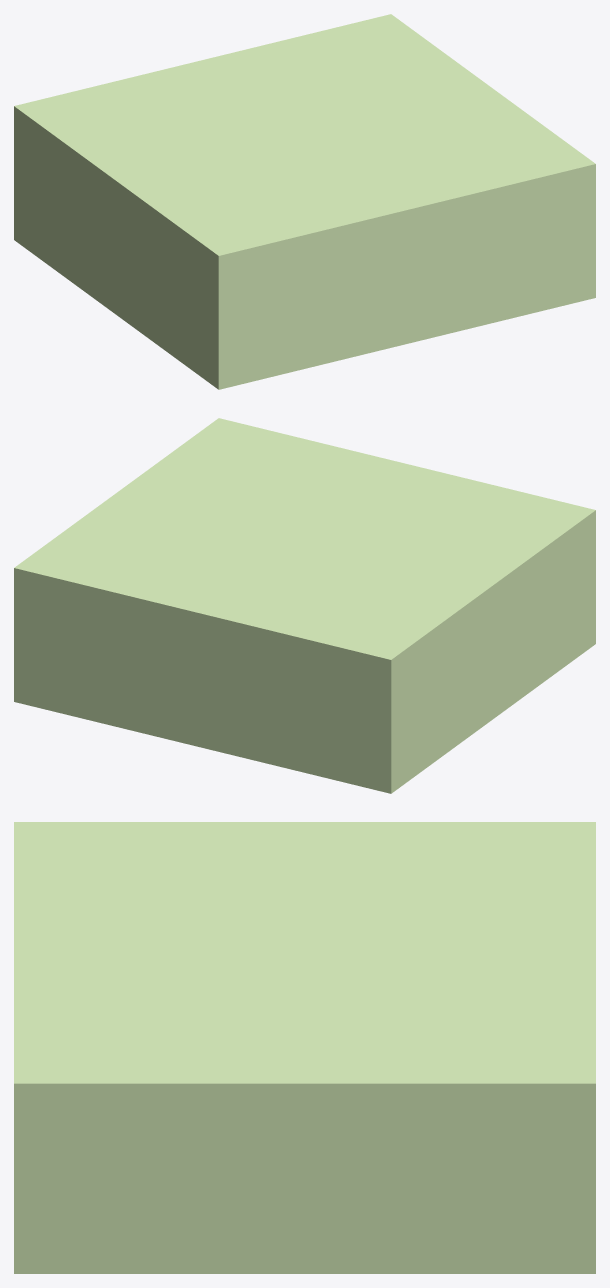
Rendered from aim_map_extracted.fbx.
3 views of the same model, one above another, from view 1: azimuth 30°, elevation 25°; view 2: azimuth 150°, elevation 25°; view 3: azimuth 270°, elevation 25° (orthographic). The views are drawn at different scales.
Visible parts, largest first — view 1: world_geometry; view 2: world_geometry; view 3: world_geometry.
Boxes of the visible parts, x1,y1,x2,y2 form: world_geometry: (14,14,595,389); world_geometry: (14,418,595,793); world_geometry: (14,822,595,1273).
Size of the model in its own units: 5121 by 1776 by 4816.
